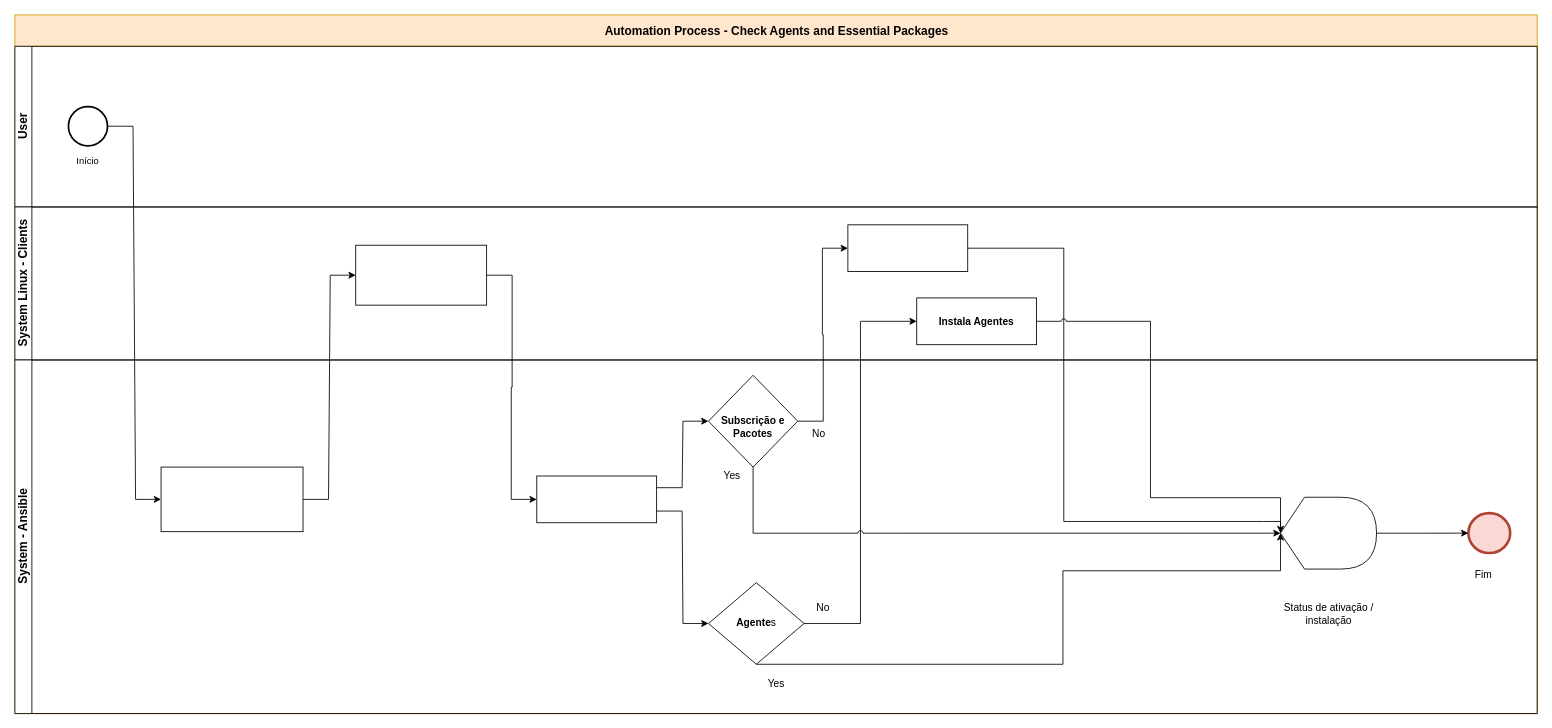
The diagram is 1552 pixels wide and 728 high, and some of its shapes have lost their labels. Here are the shapes that lost their labels. From the top down, the centre of each, then its label:
the point at 907,248: Ativa subscrição e Instala Pacotes
the point at 421,274: Playbook executada em segundo plano
the point at 231,499: Executa o Playbook: 01_linux_agent_install.yaml
the point at 596,499: Valida subscrição, agentes, e pacotes
